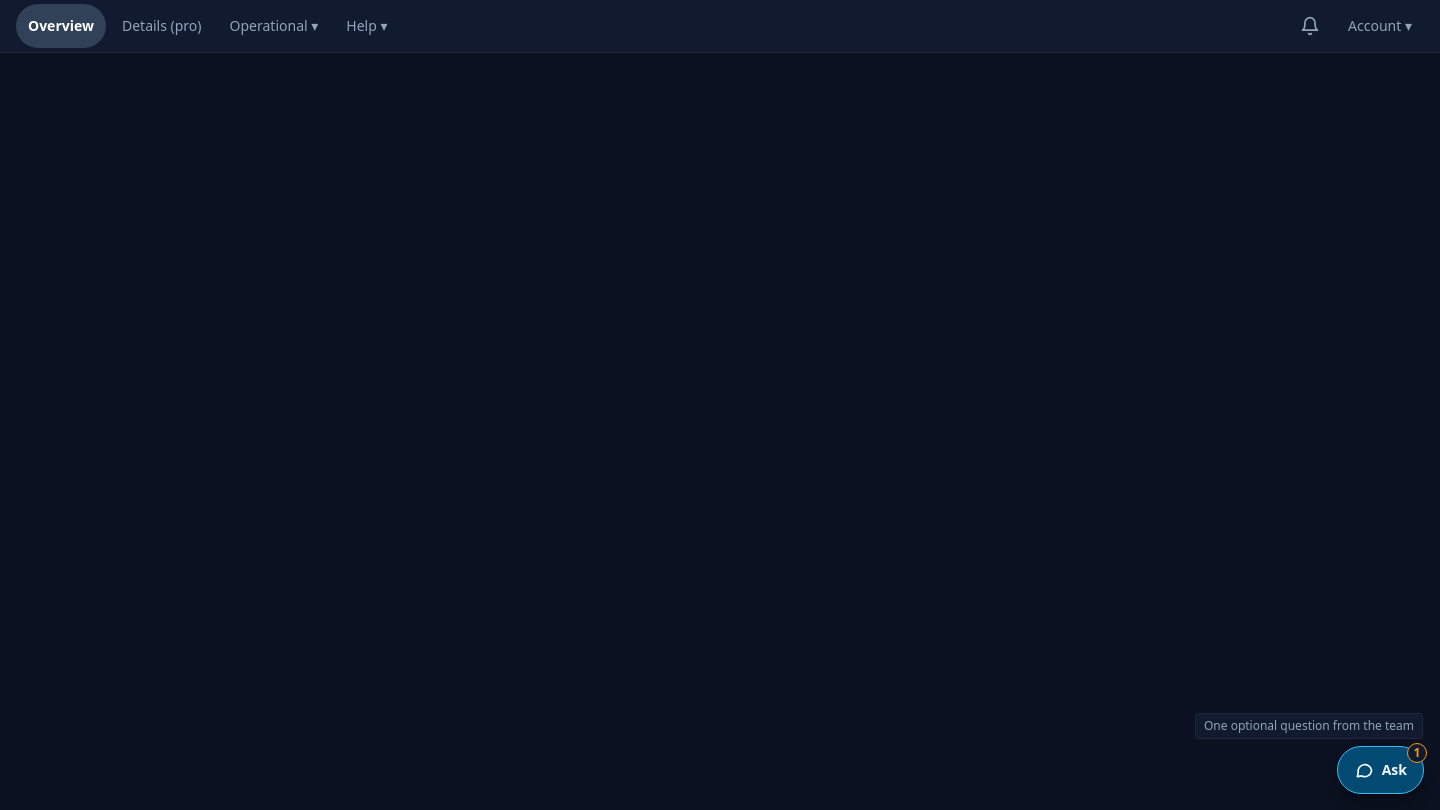
Test: Scenario: promoter question › Send posts the score, the code and the private comment to /api/survey, then thanks
Click the button with aria-label "Ask (one optional question waiting)": x=1380, y=770 top-left (1337, 746), bottom-right (1424, 794)
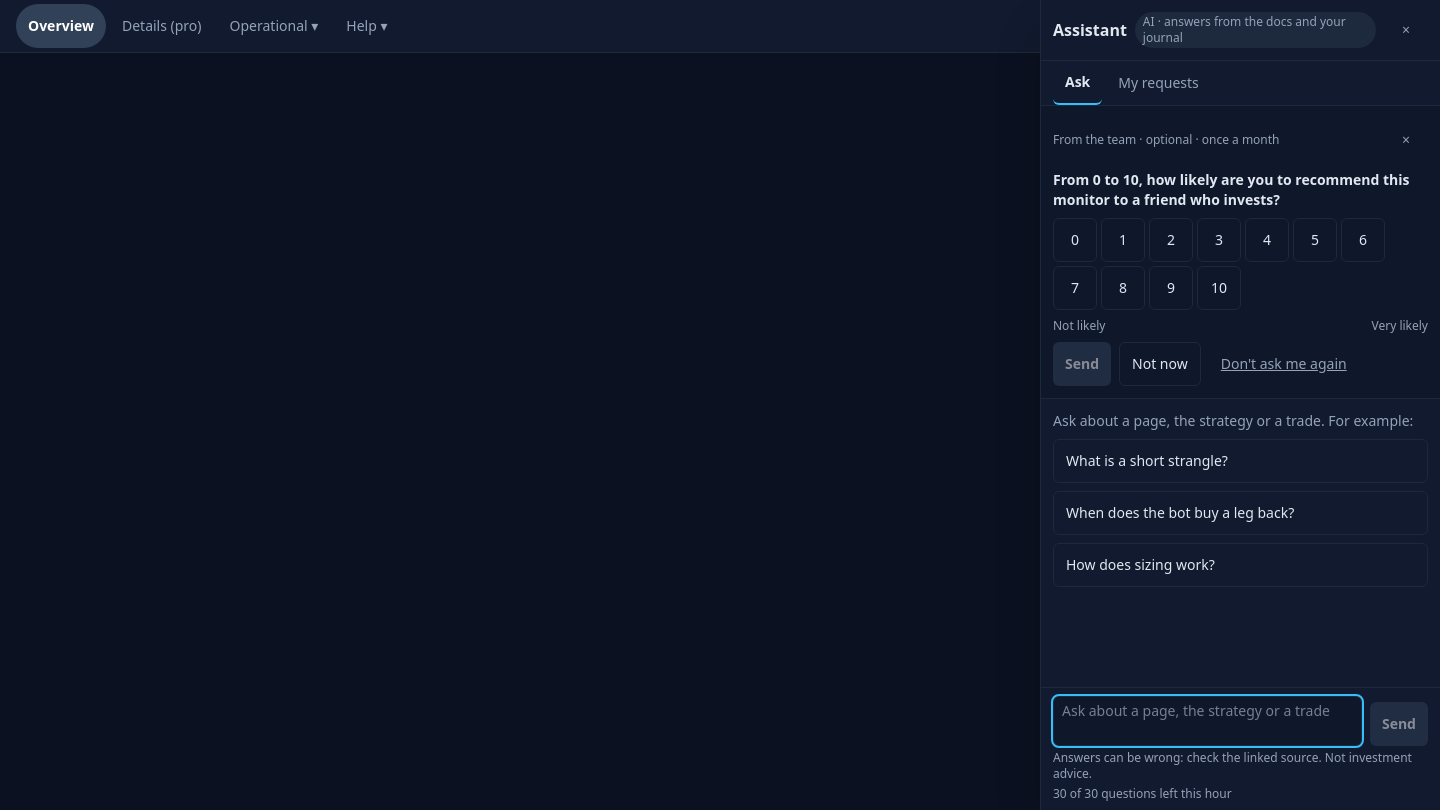
Click the button "10": x=1219, y=288 top-left (1197, 266), bottom-right (1241, 310)
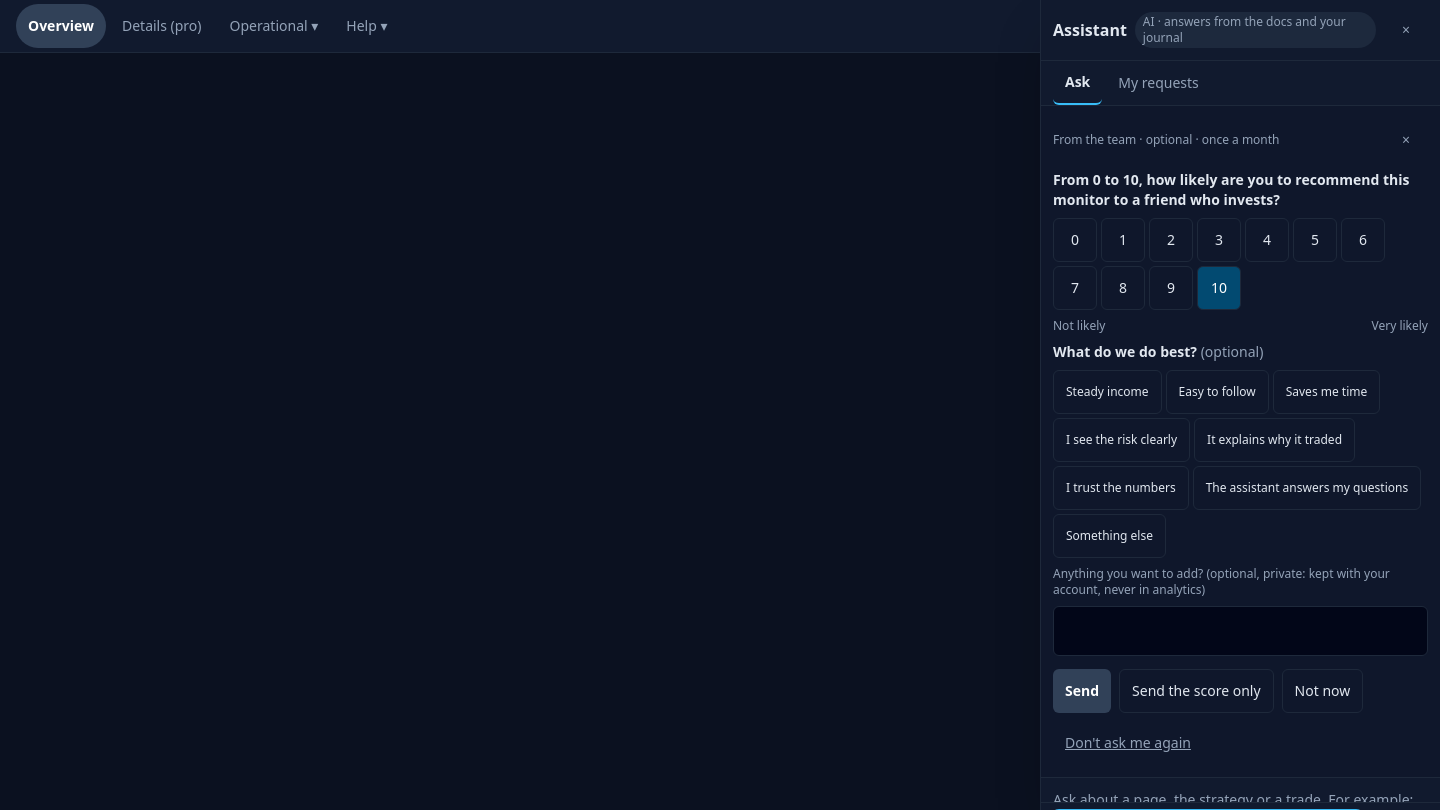
Click the button "It explains why it traded": x=1275, y=440 top-left (1194, 418), bottom-right (1355, 462)
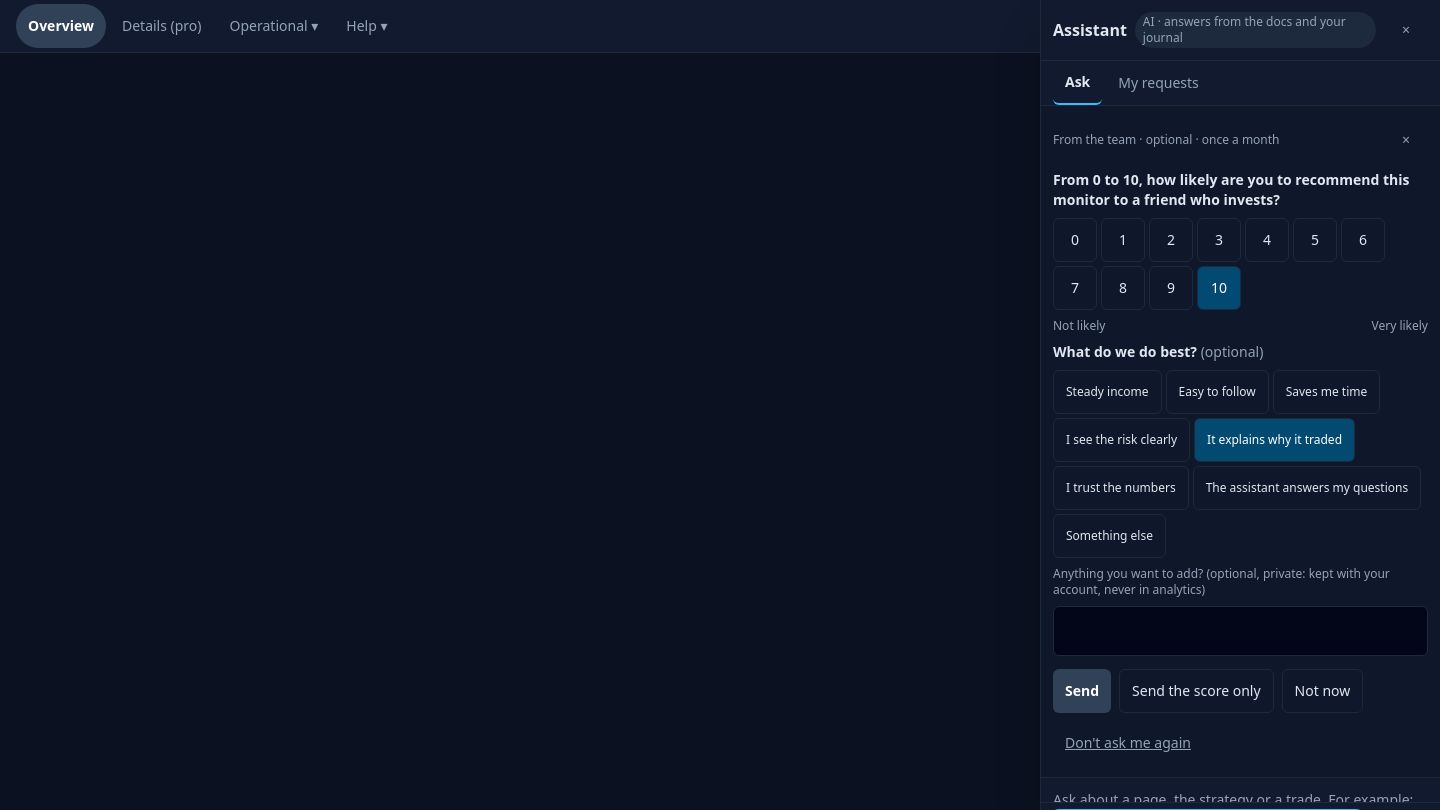
In the text box labelled "Anything you want to add": x=1240, y=631 top-left (1053, 606), bottom-right (1428, 656), type "Clear"
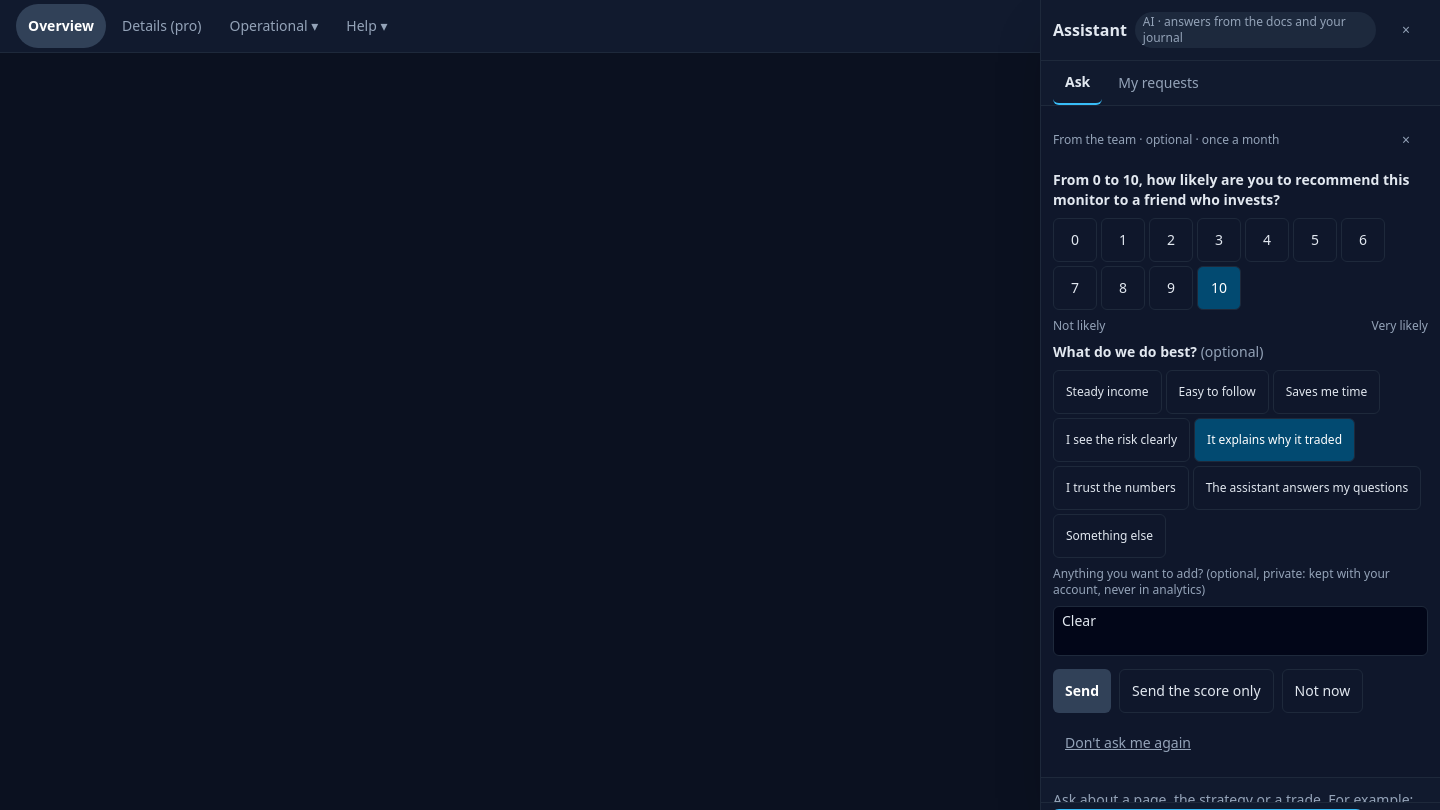
Click the button "Send": x=1082, y=691 top-left (1053, 669), bottom-right (1111, 713)
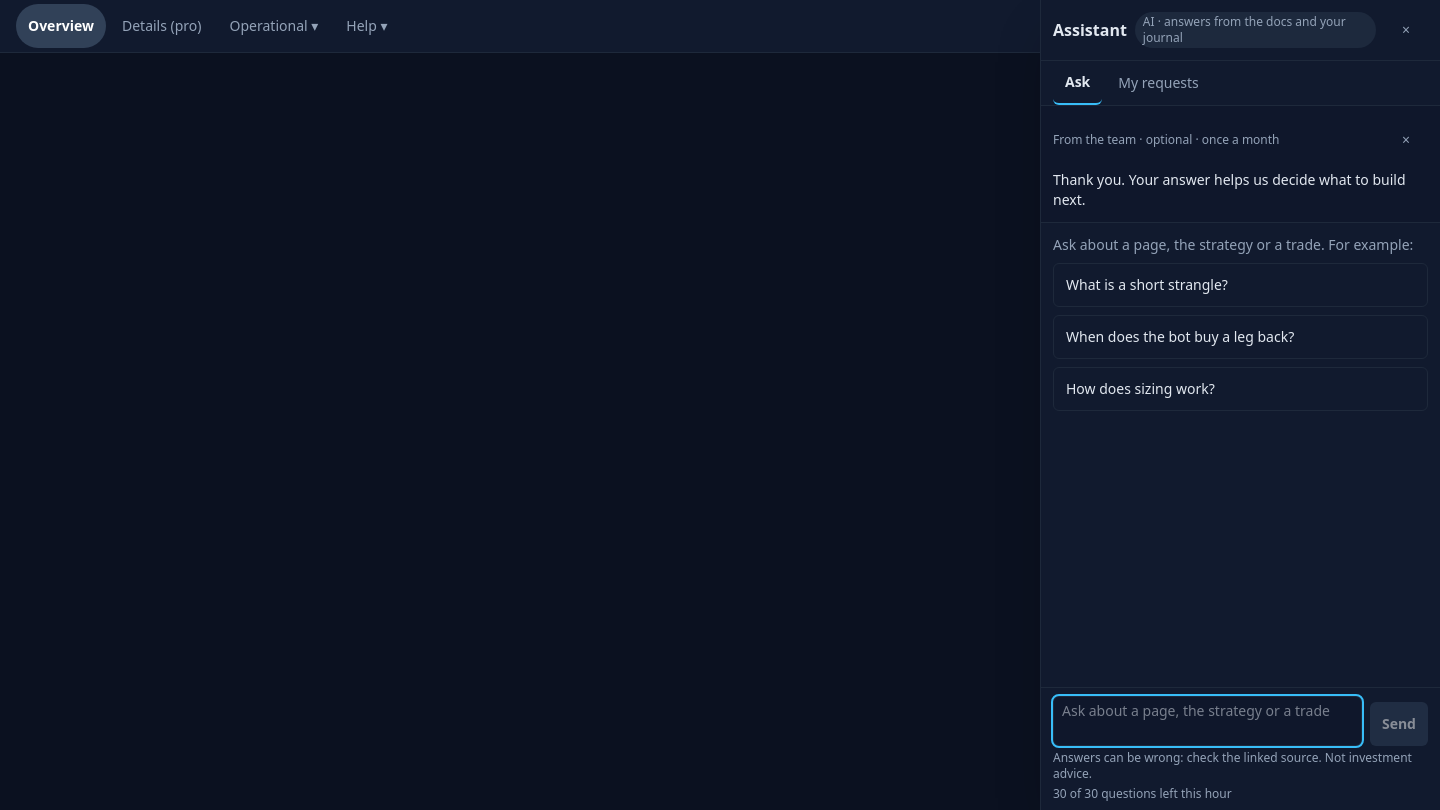
Expected: the message reads "Thank you. Your answer helps us decide what to build next.", top-left (1053, 170), bottom-right (1406, 209)
